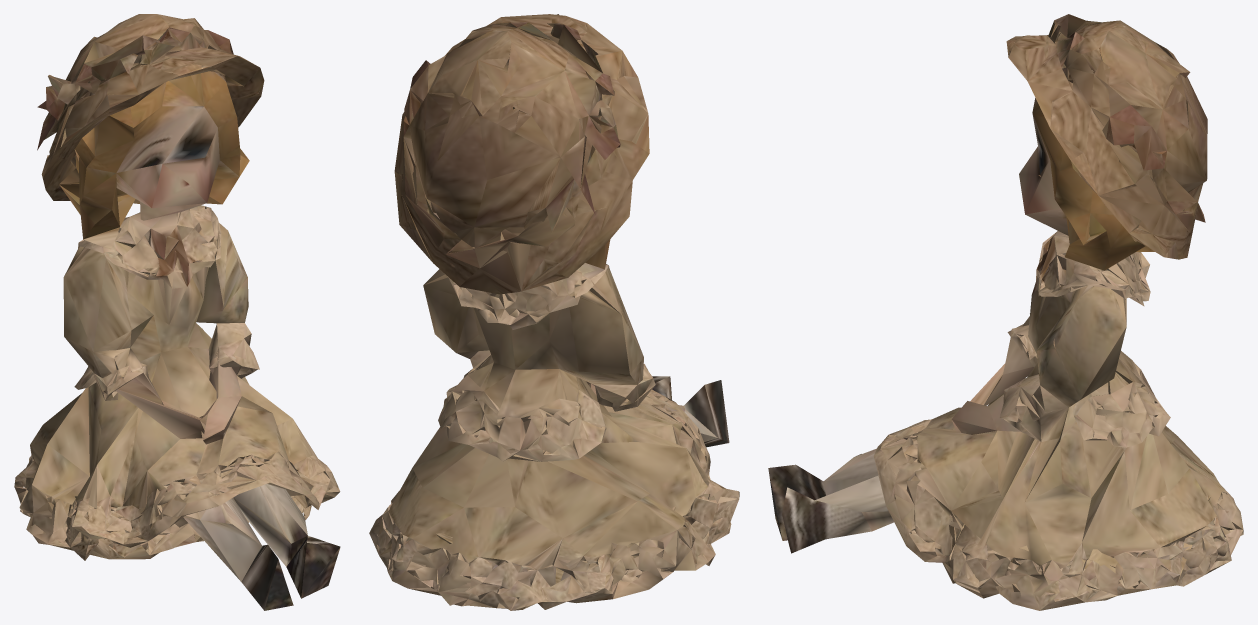
File: up_doll_straw_hat.glb
3 views of the same model, side by side, from view 1: azimuth 30°, elevation 25°; view 2: azimuth 150°, elevation 25°; view 3: azimuth 270°, elevation 25° (orthographic). The views are drawn at different scales.
Visible parts, largest first — view 1: up_doll_straw_hat; view 2: up_doll_straw_hat; view 3: up_doll_straw_hat.
Part boxes in pixels (left/top/right/bottom): up_doll_straw_hat: left=14, top=14, right=340, bottom=610; up_doll_straw_hat: left=369, top=14, right=739, bottom=610; up_doll_straw_hat: left=768, top=14, right=1243, bottom=610.
Size of the model in its own units: 0.305 by 0.5 by 0.4164.
Materials: 1 (1 with a texture image).
